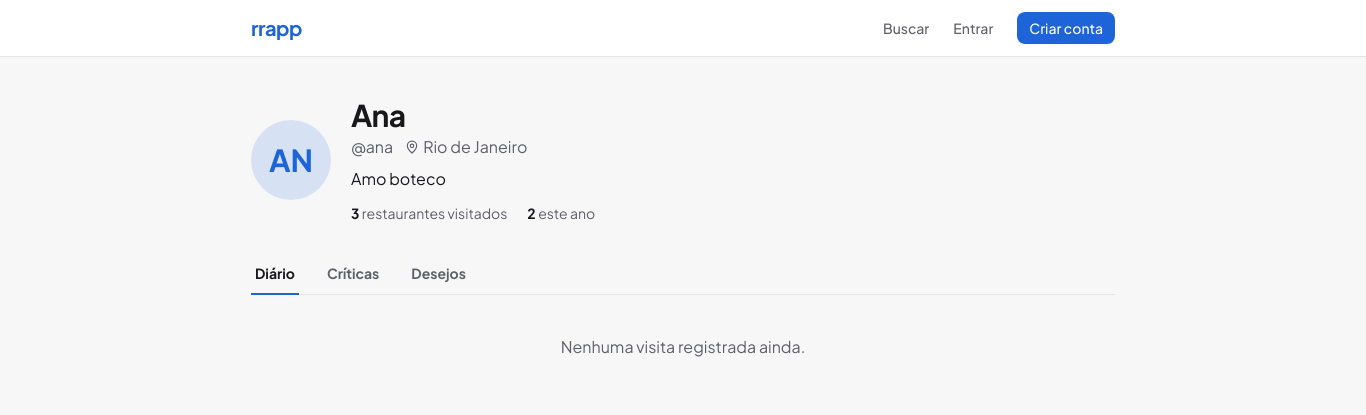
aba Críticas lista só as críticas
Click the tab "Críticas" at (353, 279), box [323,263,383,295]
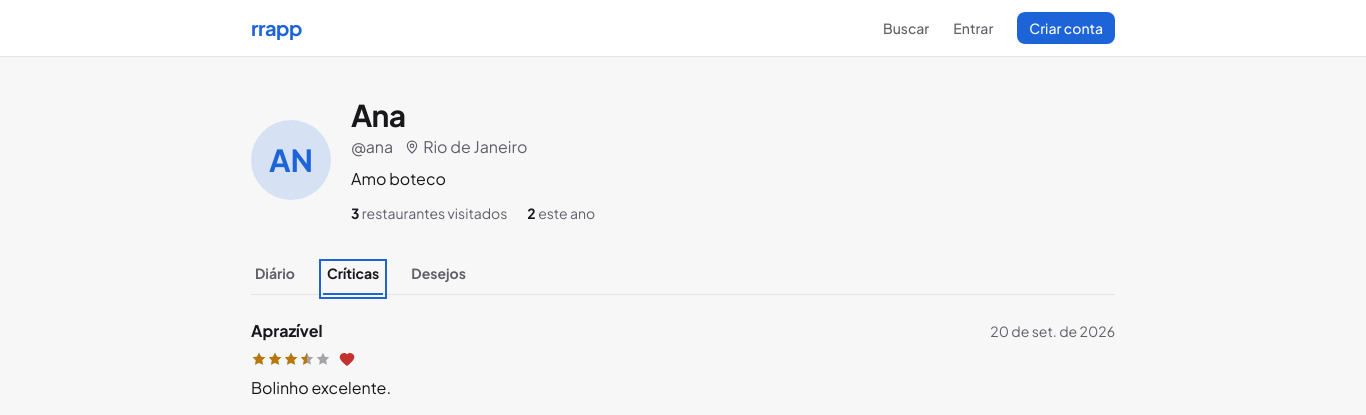
Expected: the text "Bolinho excelente." is shown, [251,377,391,398]
